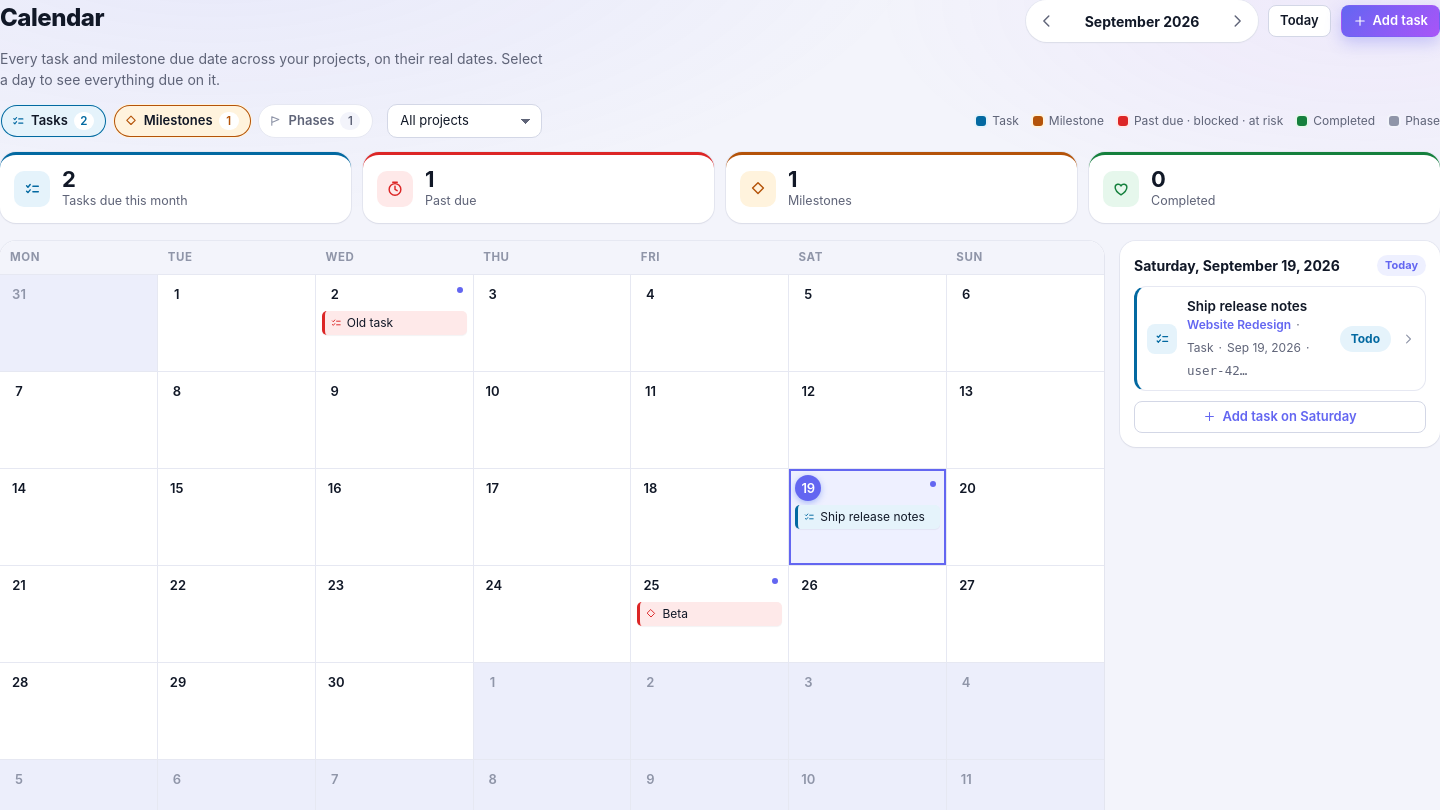
it: WorkspaceCalendarPage › skips the project picker when a project filter is already selected
This screenshot has width=1440, height=810.
Select "Mobile App" in the dropdown named "Project" at coordinates (465, 121), box [387,104,542,138]
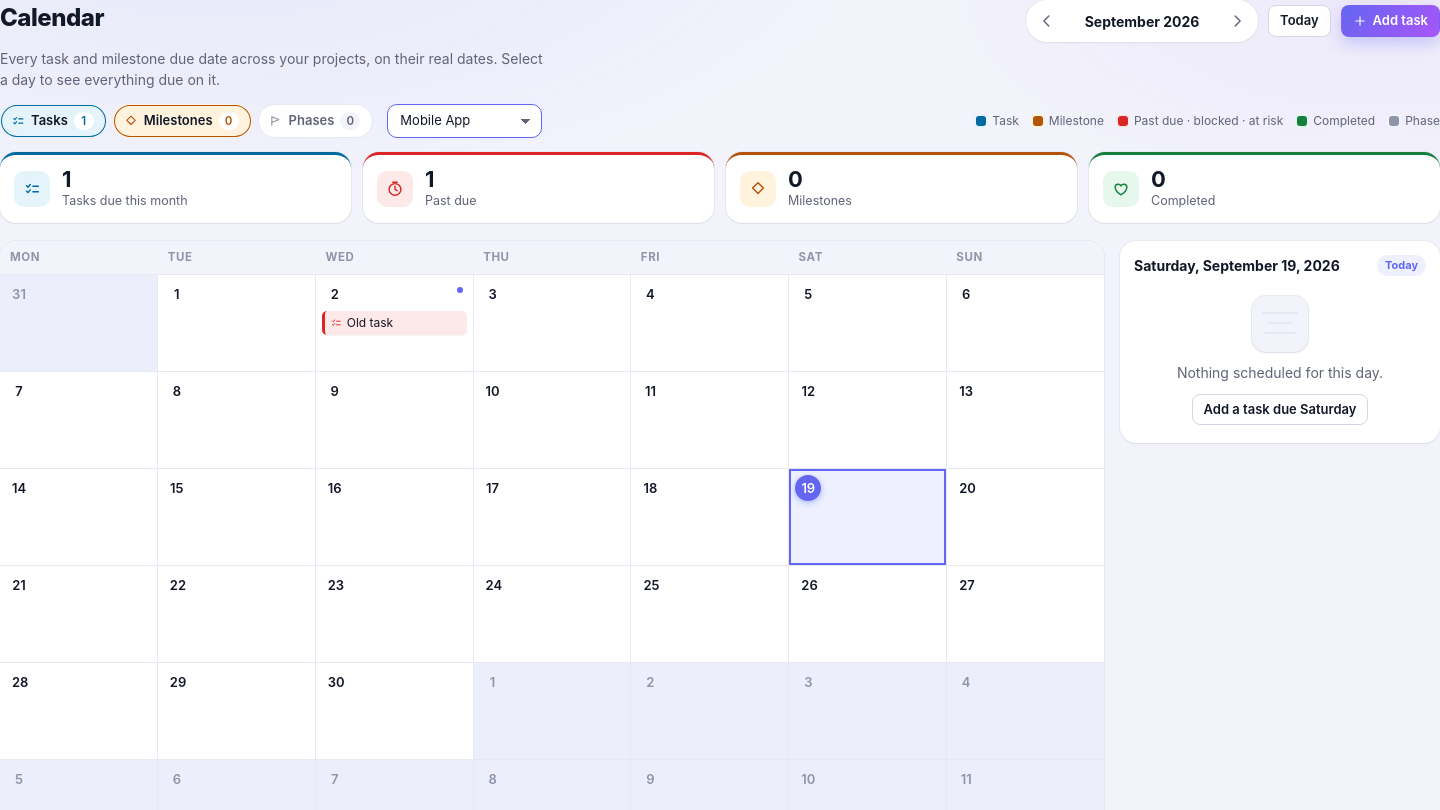
Click the button "Add task" at coordinates (1390, 21), box [1341,5,1439,37]
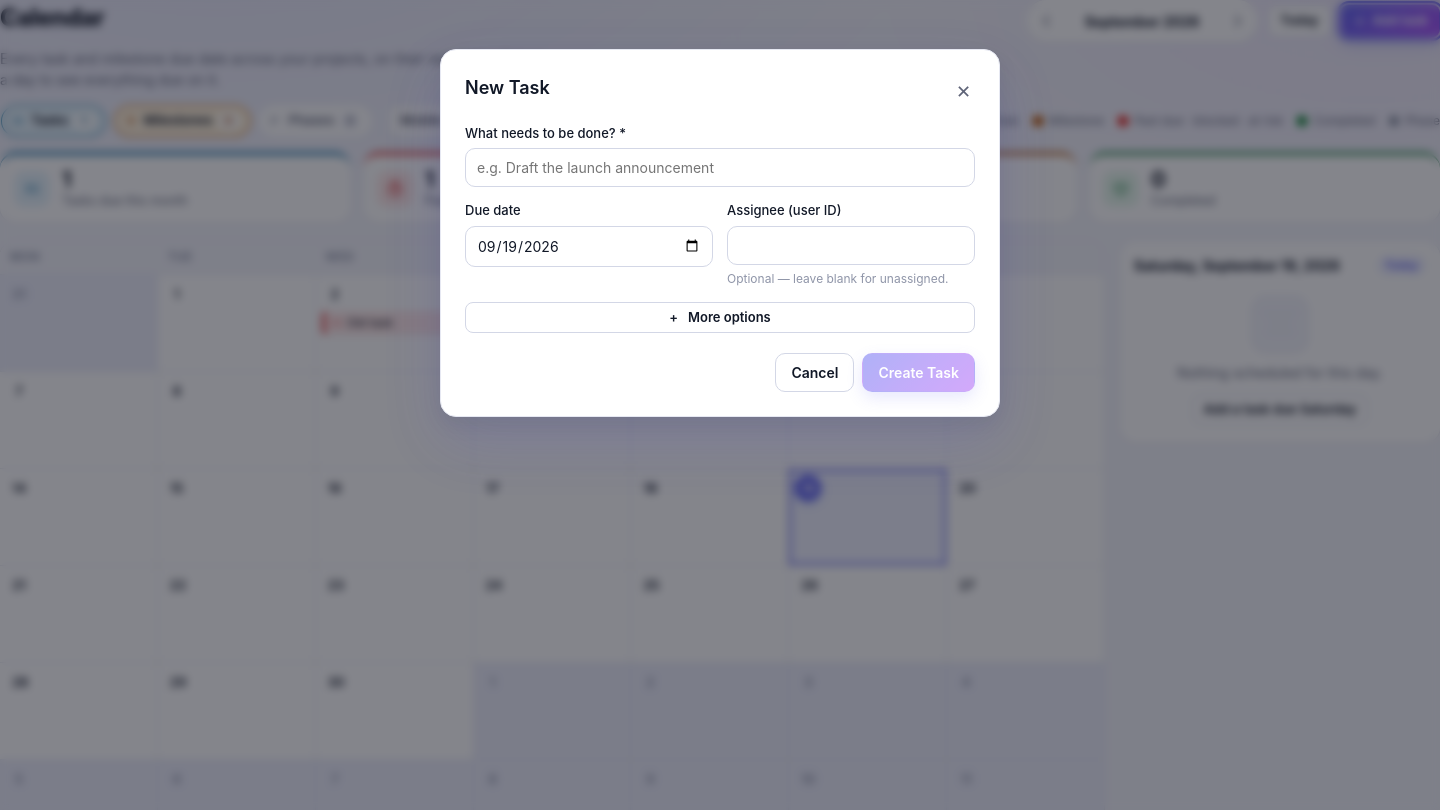
Now the dialog "New Task" is shown, box [440,49,1000,417]
Now the date field labelled "Due date" holds "2026-09-19", box [465,226,713,267]
